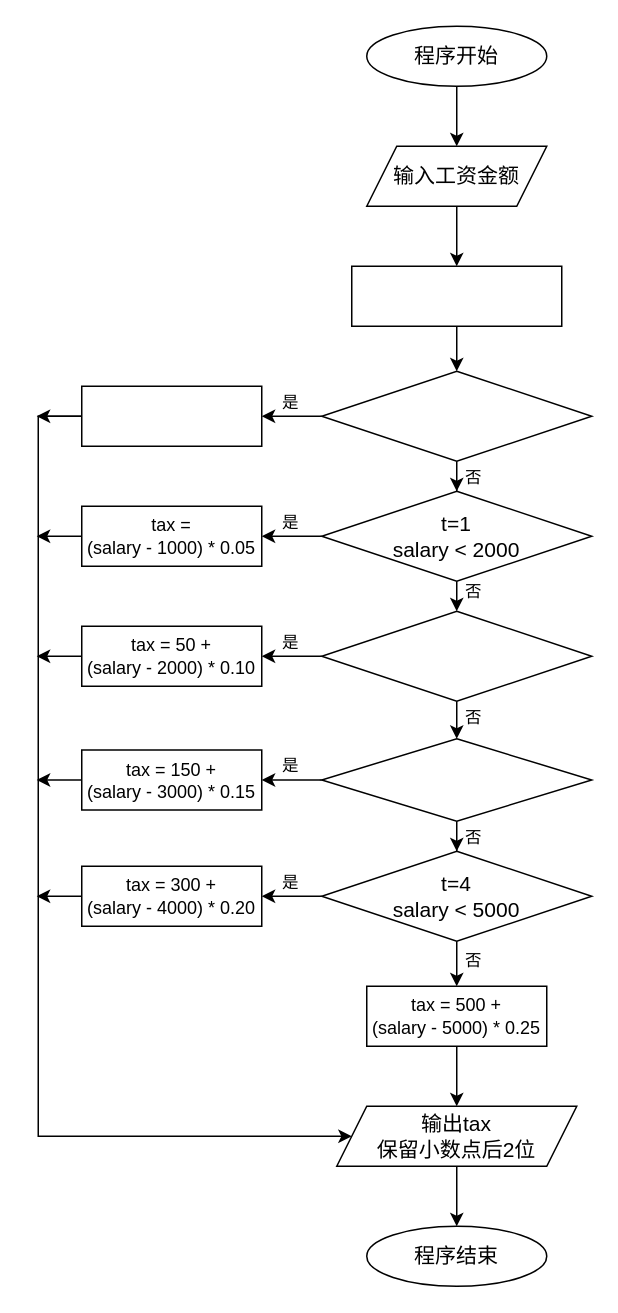
This 618x1313 diagram has some shape labels left out. Here are the shapes that lost their labels. From the top down, the box of each, then its label:
(350, 265, 562, 326): 将工资金额除以1000 得到变量t
(80, 385, 262, 446): tax = 0.0
(320, 370, 592, 461): t=0 salary < 1000
(320, 610, 592, 701): t=2 salary < 3000
(320, 737, 592, 821): t=3 salary < 4000
